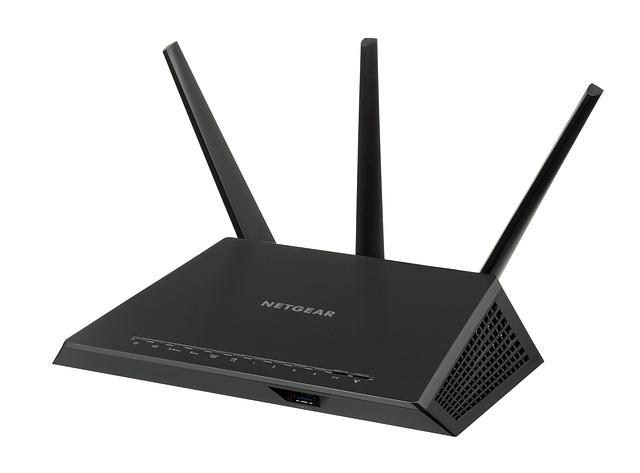Router: (55, 38, 604, 436)
